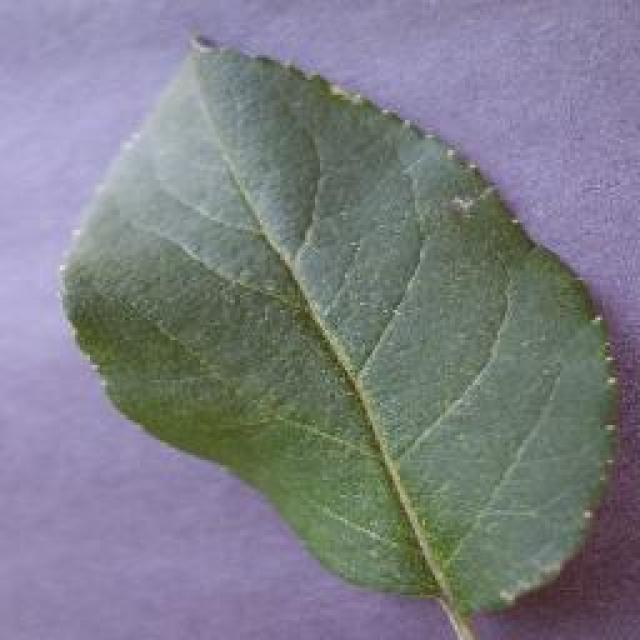apple healthy: (58, 27, 622, 635)
